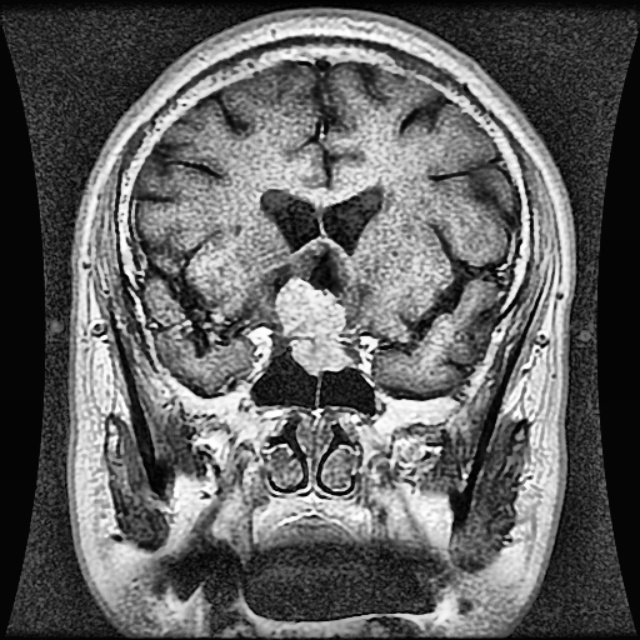Pituitary: (275, 277, 348, 375)
